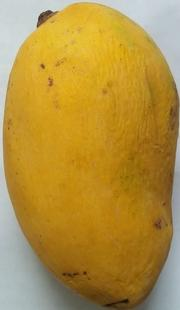Ripe: (1, 1, 180, 310)
